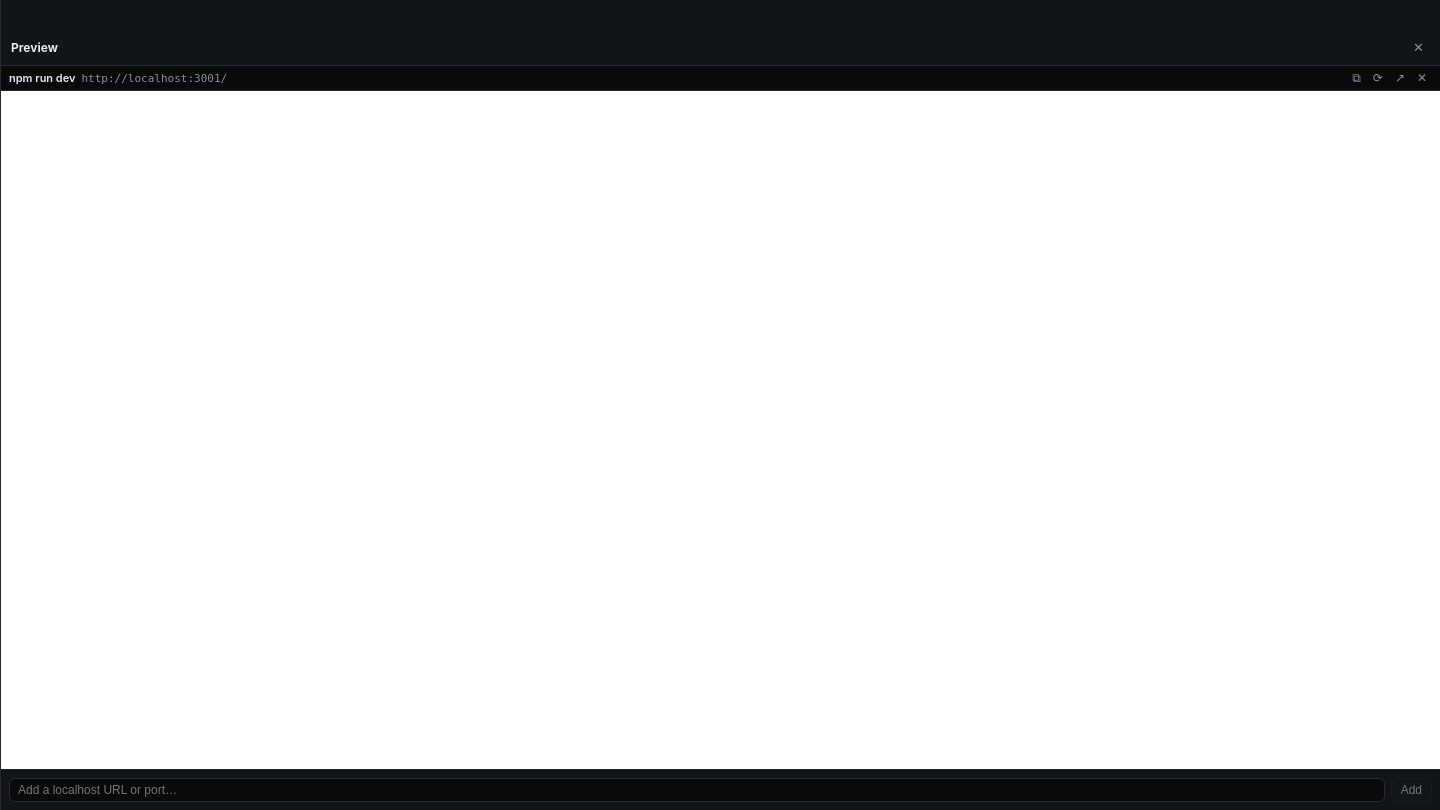
Scenario: PreviewDock › says the servers still run when every pane is closed
The image size is (1440, 810).
Click the button named "Close preview of localhost:3001" at (1422,78), box [1412,70,1432,86]
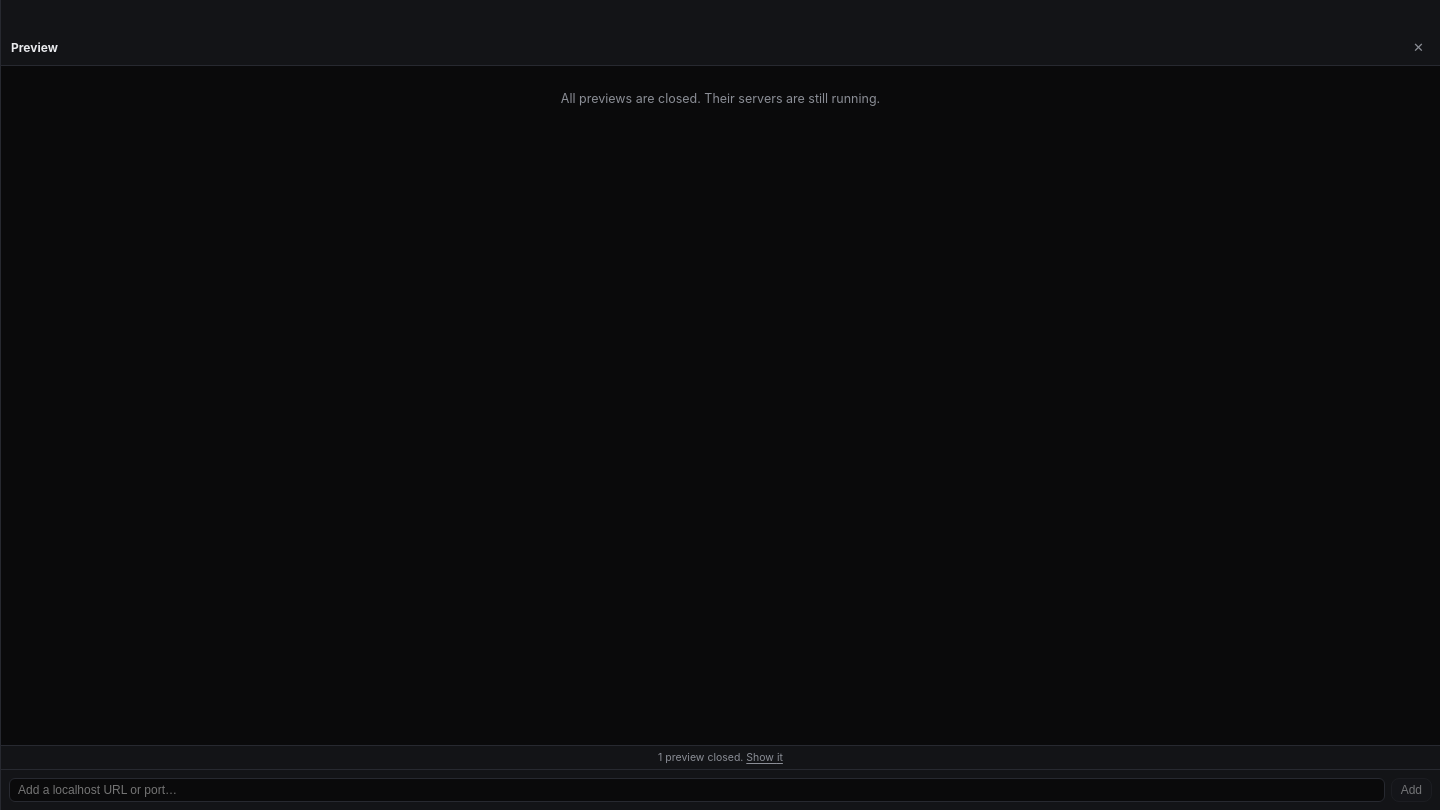
Now the text "All previews are closed. Their servers are still running." is shown, box [561,90,880,108]
